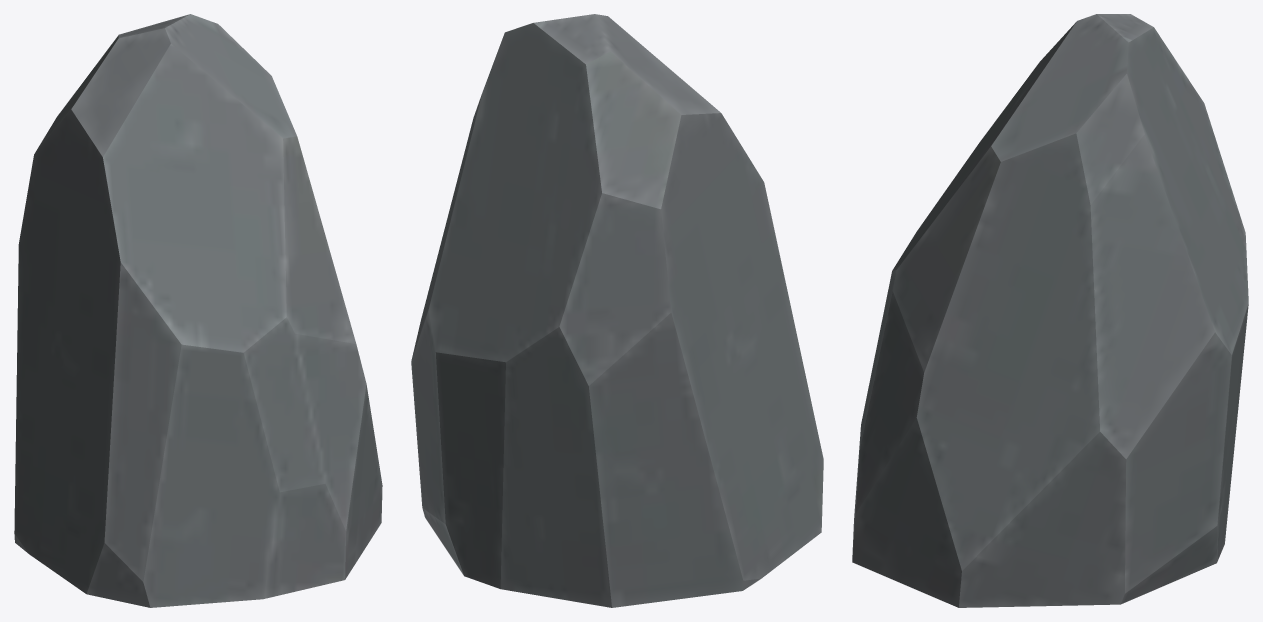
File: rocks.gltf
3 renders of one model, left to right at view 1: azimuth 30°, elevation 25°; view 2: azimuth 150°, elevation 25°; view 3: azimuth 270°, elevation 25°, orthographic. The views are drawn at different scales.
Visible parts, largest first — view 1: rock-a; view 2: rock-a; view 3: rock-a.
Boxes of the visible parts, left/top/right/bottom form: rock-a: left=14, top=14, right=382, bottom=607; rock-a: left=411, top=14, right=823, bottom=607; rock-a: left=852, top=14, right=1248, bottom=607.
Bounding box in the file's own units: 0.4653 × 0.719 × 0.5.
1 material, 1 textured.
